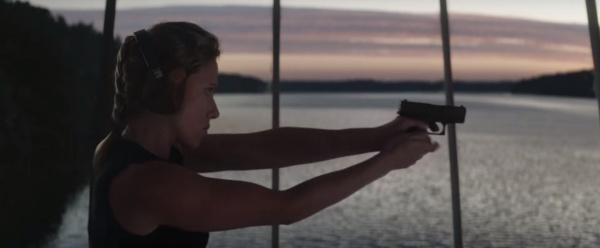Gun: (398, 98, 468, 133)
